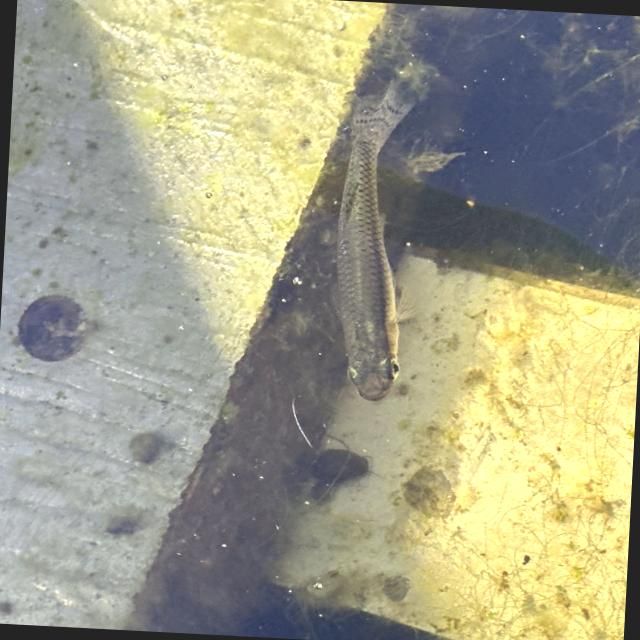Sivrisinek Baligi: (320, 57, 434, 406)
